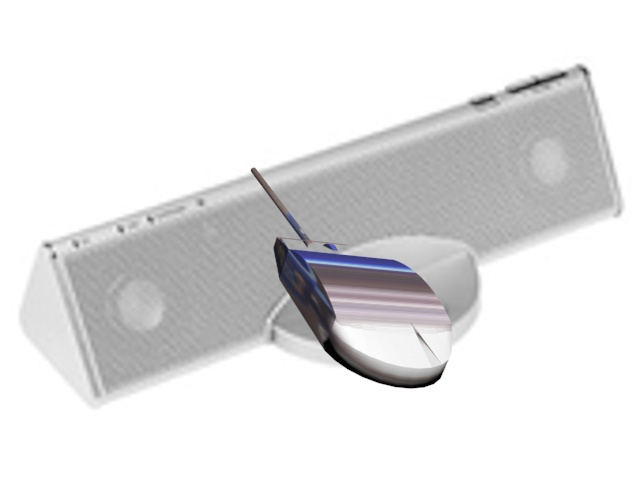mouse: (241, 161, 462, 392)
